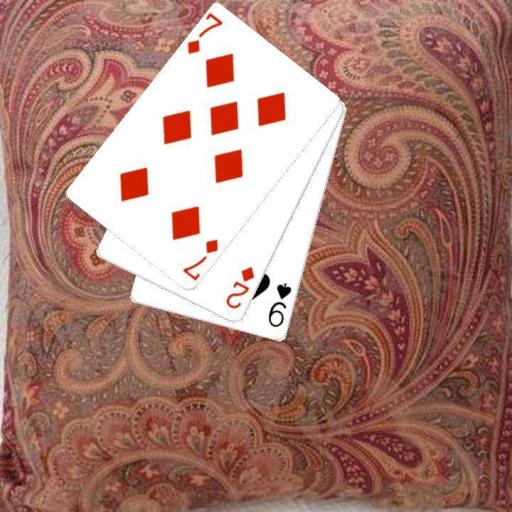card-corner: (180, 236, 220, 282), (184, 11, 224, 57), (223, 264, 256, 311), (265, 280, 294, 330)
